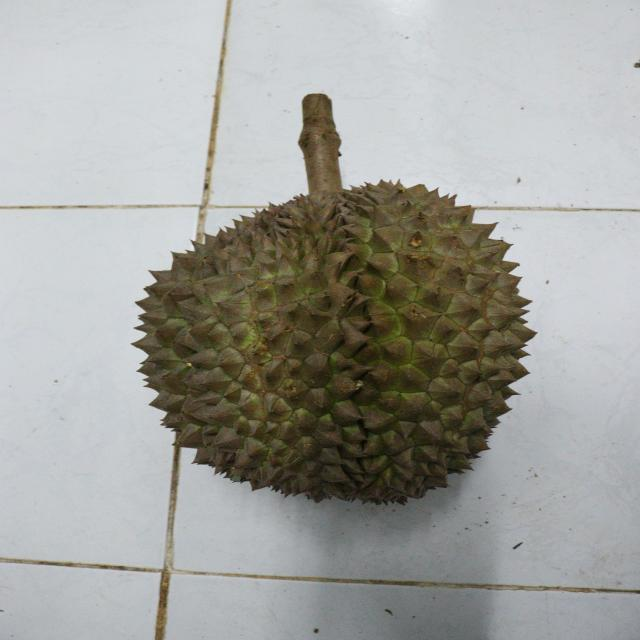mature: (127, 180, 538, 510)
